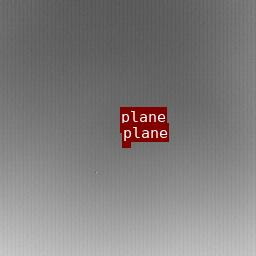plane: (120, 126, 133, 132), (122, 142, 130, 146)
